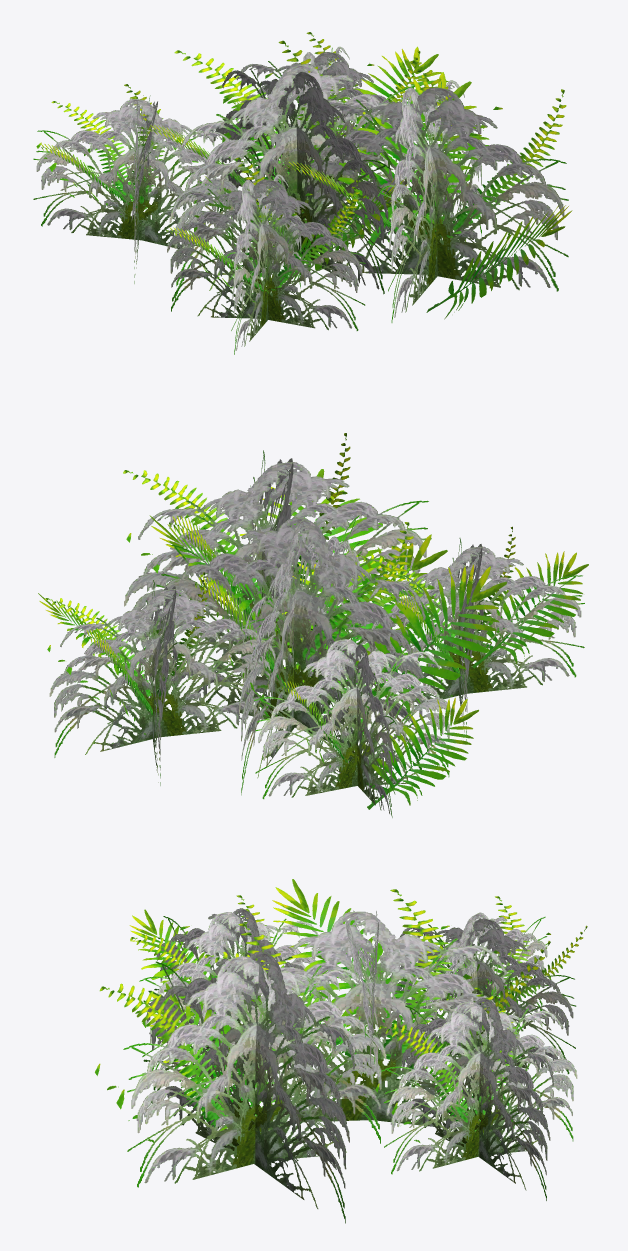
The model's file is nml-bd022.glb.
3 views of the same model, one above another, from view 1: azimuth 30°, elevation 25°; view 2: azimuth 150°, elevation 25°; view 3: azimuth 270°, elevation 25° (orthographic). The views are drawn at different scales.
Parts seen in each view (by area): view 1: geom_node_0; view 2: geom_node_0; view 3: geom_node_0.
Part boxes in pixels (x1=…): geom_node_0: x1=33, y1=32, x2=572, y2=354; geom_node_0: x1=38, y1=433, x2=588, y2=817; geom_node_0: x1=95, y1=879, x2=587, y2=1223.
Bounding box in the file's own units: 6 × 2.75 × 6.51.
2 materials, 2 textured.
